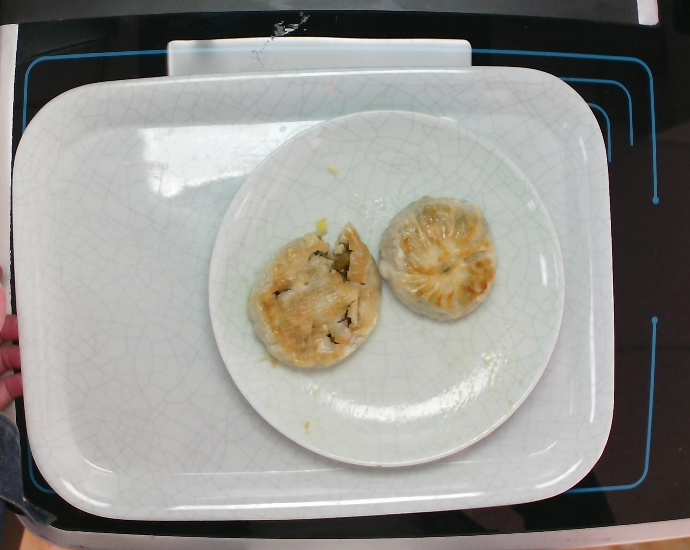JYsf-Da_Yuan_Pan: (201, 105, 570, 478)
